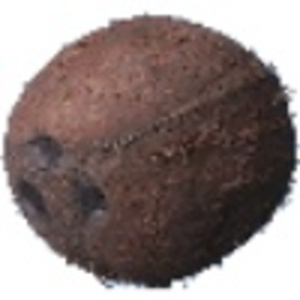coco: (1, 15, 300, 291)
